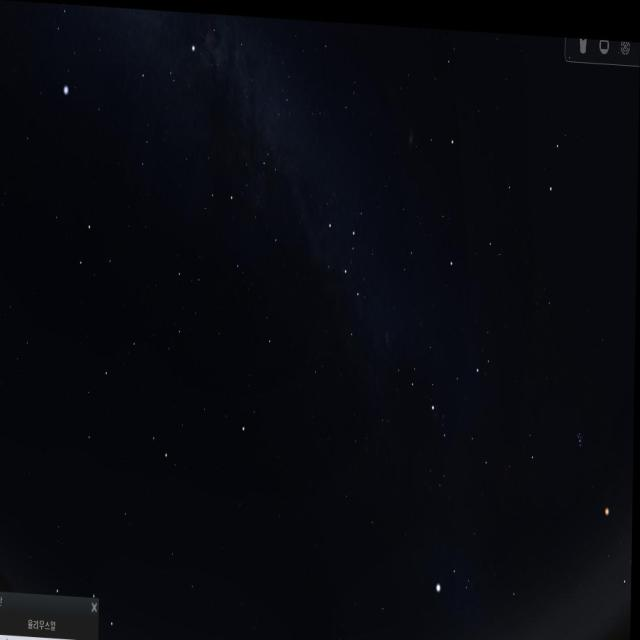cassiopeia: (316, 194, 372, 354)
pleiades: (570, 410, 590, 449)
